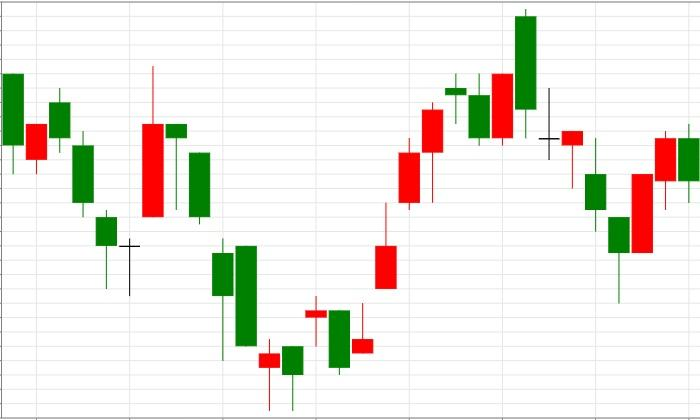evening_star_fall: (352, 72, 489, 354)
hammer_rise: (515, 9, 629, 303)
morning_star_rise: (49, 66, 164, 296)
